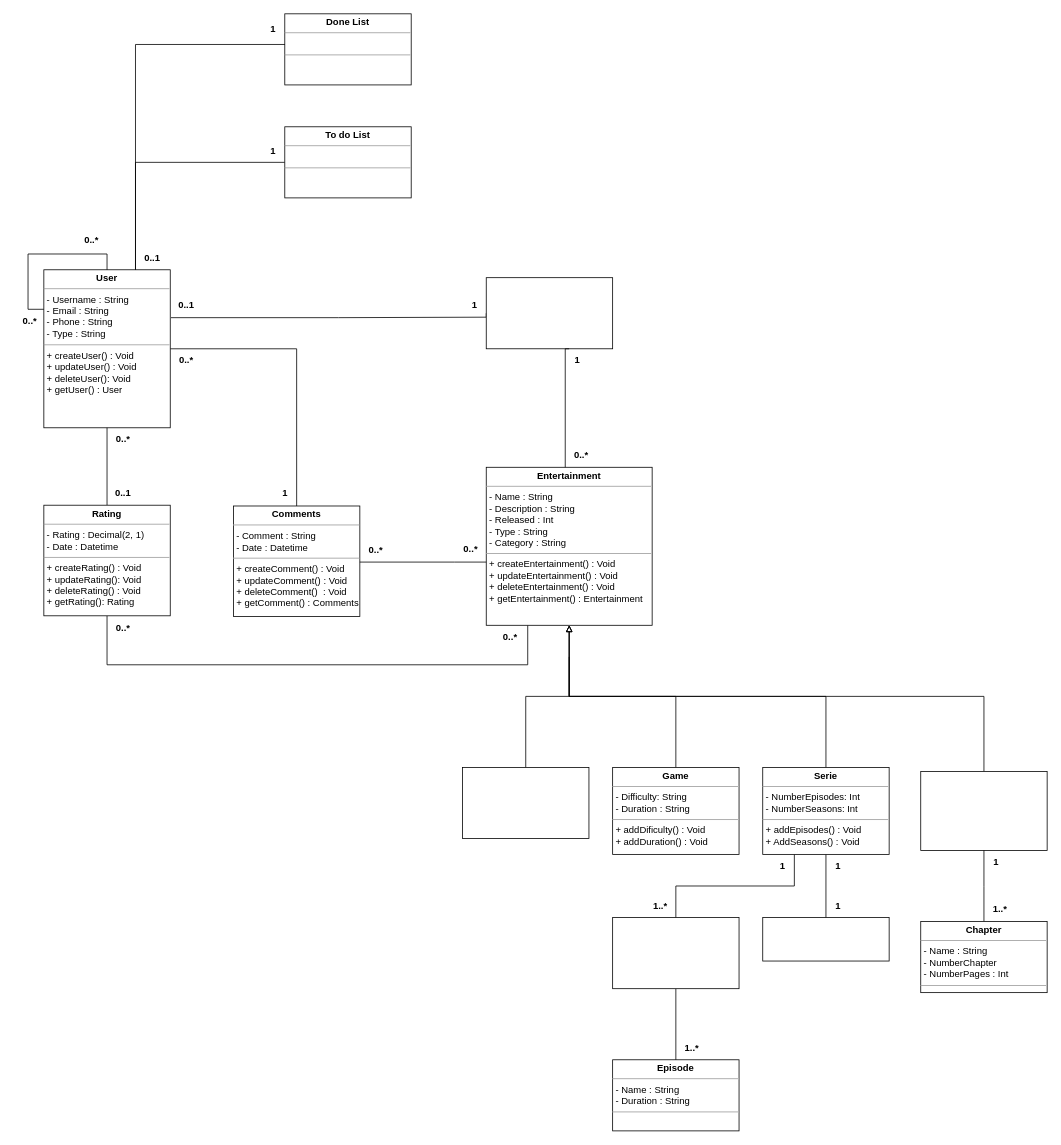
The diagram is 1061 pixels wide and 1145 high, and some of its shapes have lost their labels. The centre of each missing label's shape, as x and y in pixels:
Books - NumberPages: Int - NumberChapters : Int + addDuration() : Void: (983,810)
Movie - Duration : String + addDuration() : Void: (525,803)
Season - Name : String - NumberEpisodes : Int: (675,953)
TypeSeries - Type: Varchar: (825,939)
Wishlist: (549,313)
